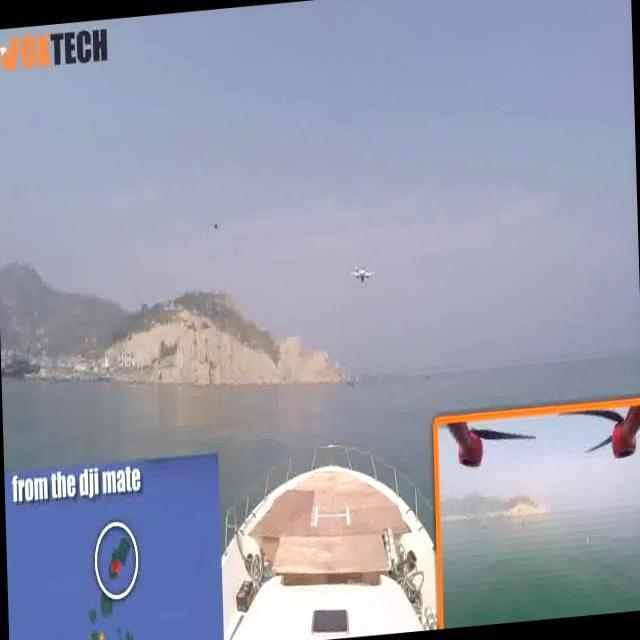drone: (348, 258, 378, 294), (209, 218, 229, 240)
